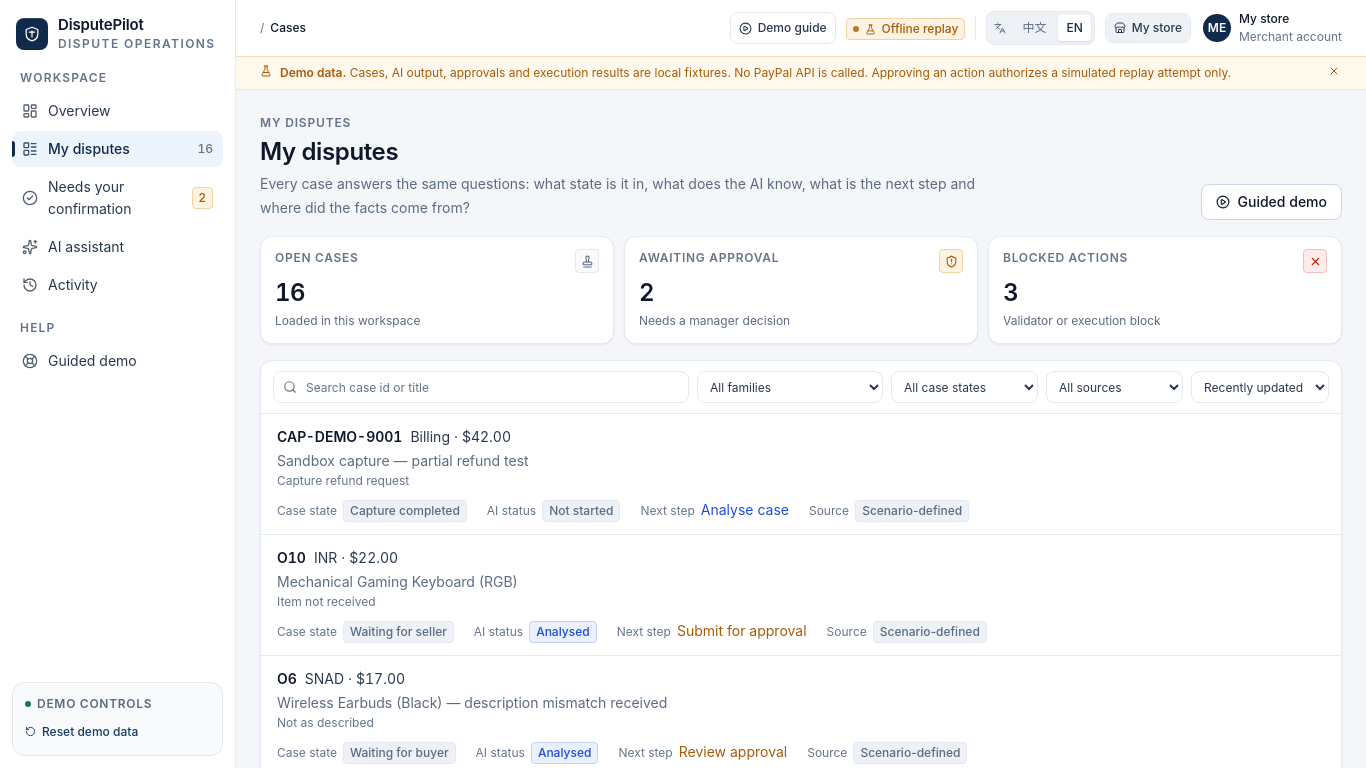
Test: DisputePilot workspace › filters cases by search query
The image size is (1366, 768).
Type "laptop sleeve" into the search field named "Search cases" at x=481, y=387, box [273,371,689,403]
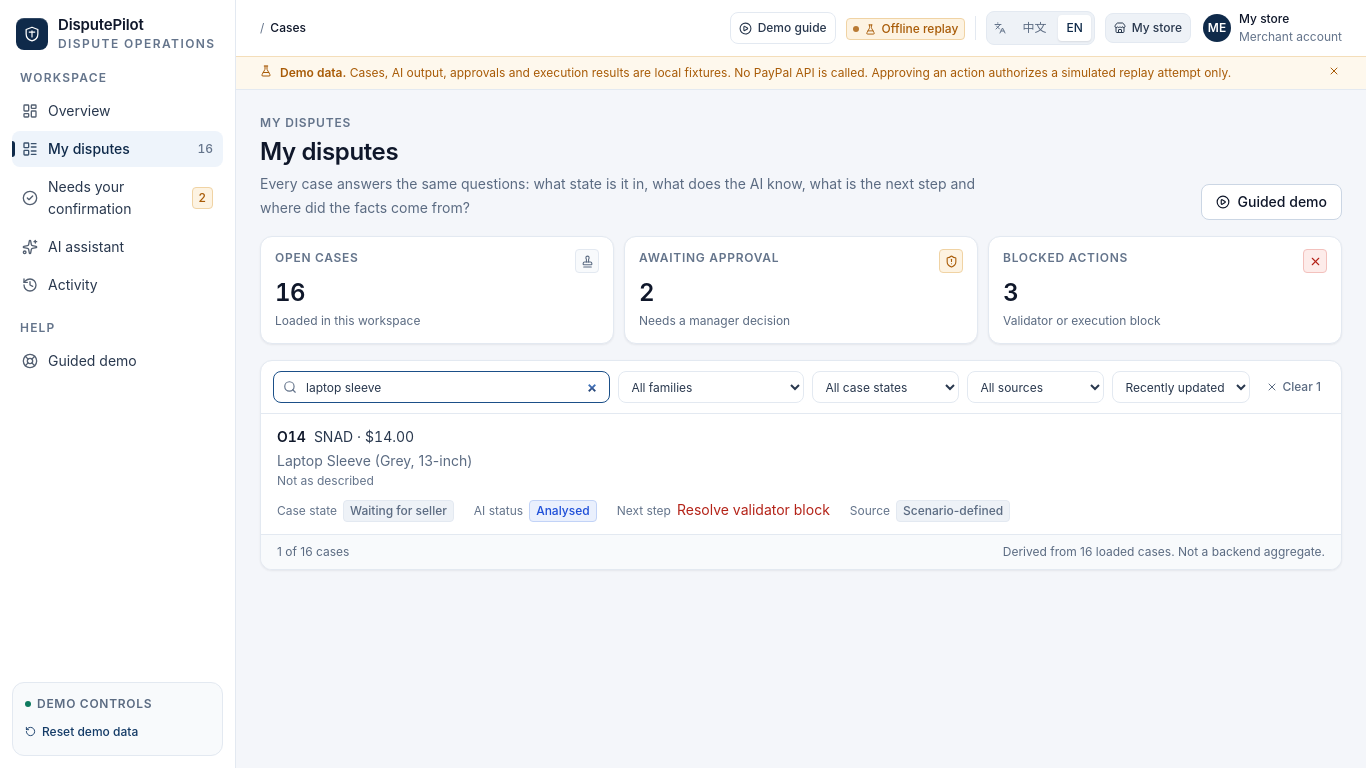
Expected: the text "Laptop Sleeve (Grey, 13-inch)" is shown, [277,452,472,469]
Expected: the link "Mechanical Gaming Keyboard (RGB)" is gone
